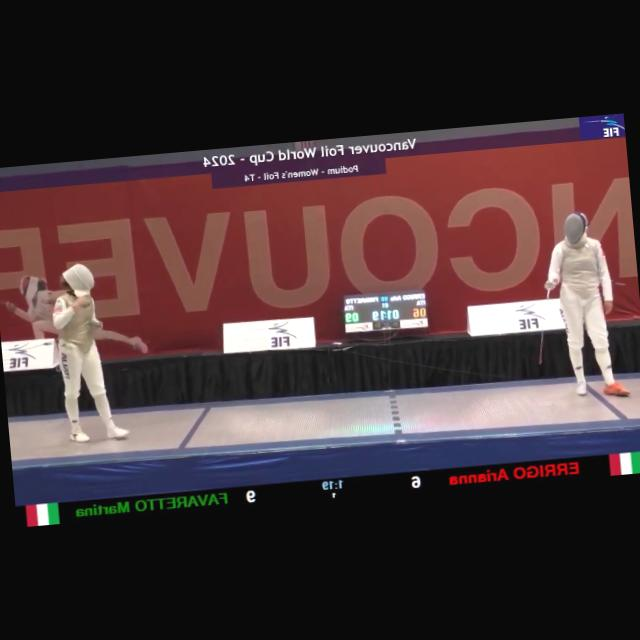blade: (530, 278, 560, 364)
